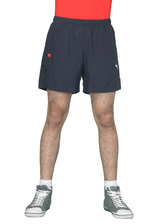clothoes: (38, 14, 124, 98)
shoes: (97, 179, 139, 222), (25, 179, 56, 218)
